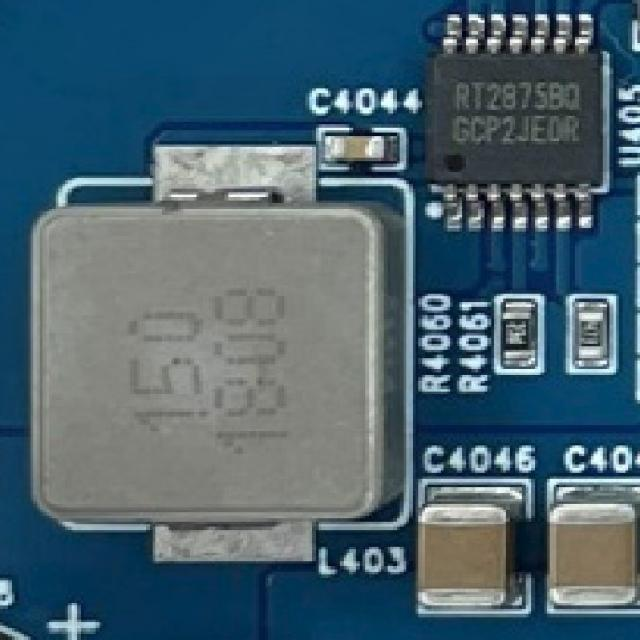IC: (425, 23, 608, 215)
capacitor 1V5: (411, 494, 521, 616), (547, 490, 639, 608), (328, 134, 396, 166)
inductor F1: (26, 174, 407, 545)
resistor IR1: (567, 304, 609, 368), (503, 308, 535, 362)
